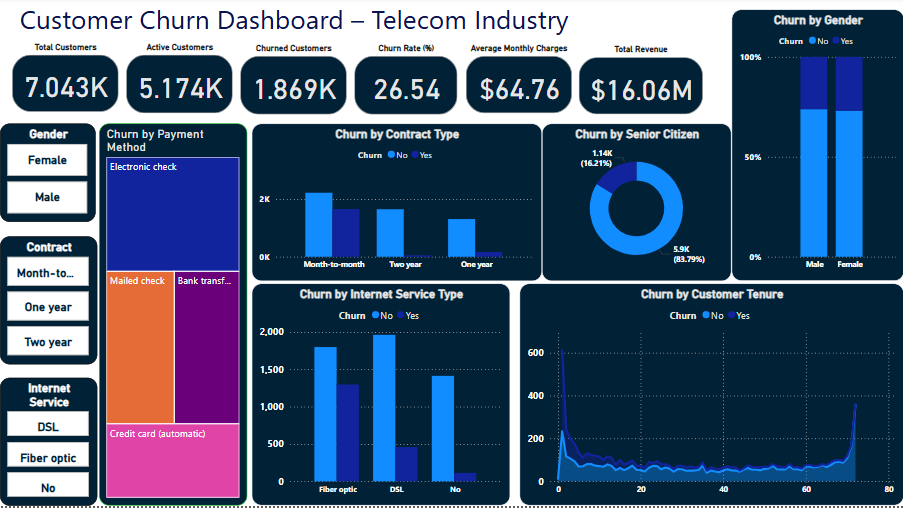

What the dashboard file says about the page in this screenshot:
{"tool":"powerbi","page":{"name":"Page 1","canvas":[1280,720],"ordinal":0},"visuals":[{"type":"cardVisual","title":"Total Customers","fields":{"Data":["CountNonNull(churn.customerID)"]},"box":[12.3,63.2,161.6,105.4],"z":0},{"type":"cardVisual","title":"Active Customers","fields":{"Data":["CountNonNull(churn.Churn)"]},"box":[173.9,63.2,161.6,107.1],"z":1000},{"type":"cardVisual","title":"Average Monthly Charges","fields":{"Data":["Avg(churn.MonthlyCharges)"]},"box":[654.3,65.8,160.5,104.9],"z":2000},{"type":"cardVisual","title":"Churned Customers","fields":{"Data":["CountNonNull(churn.Churn)"]},"box":[335.5,65,161.6,107.1],"z":3000},{"type":"cardVisual","title":"Total Revenue","fields":{"Data":["Sum(churn.TotalCharges)"]},"box":[815,66.7,186.2,105.4],"z":4000},{"type":"donutChart","title":"Churn by Senior Citizen","fields":{"Category":["churn.SeniorCitizen"],"Y":["CountNonNull(churn.Churn)"]},"box":[767.6,179.2,268.7,223.1],"z":5000},{"type":"clusteredColumnChart","title":"Churn by Contract Type","fields":{"Category":["churn.Contract"],"Y":["CountNonNull(churn.customerID)"],"Series":["churn.Churn"]},"box":[356.6,179.2,411,223.1],"z":6000},{"type":"cardVisual","title":"Churn Rate (%)","fields":{"Data":["Sum(Table.[Churn Rate (%)])"]},"box":[497.9,65.8,156.4,107],"z":7000},{"type":"hundredPercentStackedColumnChart","title":"Churn by Gender","fields":{"Category":["churn.gender"],"Y":["CountNonNull(churn.customerID)"],"Series":["churn.Churn"]},"box":[1036.3,17.6,244.1,384.7],"z":8000},{"type":"stackedAreaChart","title":"Churn by Customer Tenure","fields":{"Category":["churn.tenure"],"Y":["CountNonNull(churn.customerID)"],"Series":["churn.Churn"]},"box":[735.9,405.7,544.5,314.4],"z":9000},{"type":"treemap","title":"Churn by Payment Method","fields":{"Group":["churn.PaymentMethod"],"Values":["CountNonNull(churn.Churn)"]},"box":[139.9,179,209.9,541.1],"z":10000},{"type":"clusteredColumnChart","title":"Churn by Internet Service Type","fields":{"Category":["churn.InternetService"],"Y":["CountNonNull(churn.customerID)"],"Series":["churn.Churn"]},"box":[356,405.3,366.3,314.8],"z":11000},{"type":"advancedSlicerVisual","title":"Gender","fields":{"Values":["churn.gender"]},"box":[1.8,179.2,135.2,140.5],"z":12000},{"type":"advancedSlicerVisual","fields":{"Values":["churn.Contract"]},"box":[0,339.5,137.9,181.1],"z":13000},{"type":"textbox","box":[0,0,833.3,72],"z":14000},{"type":"advancedSlicerVisual","title":"Internet Service","fields":{"Values":["churn.InternetService"]},"box":[0,539.1,137.9,181.1],"z":14001}]}

Visuals, with their boxes in screenshot pixels (x1, y1, x2, y2), scaled from the page's 1280x720 canvas onto the 903x508 screenshot:
"Total Customers" cardVisual: bbox=[9, 45, 123, 119]
"Active Customers" cardVisual: bbox=[123, 45, 237, 120]
"Average Monthly Charges" cardVisual: bbox=[462, 46, 575, 120]
"Churned Customers" cardVisual: bbox=[237, 46, 351, 121]
"Total Revenue" cardVisual: bbox=[575, 47, 706, 121]
"Churn by Senior Citizen" donutChart: bbox=[542, 126, 731, 284]
"Churn by Contract Type" clusteredColumnChart: bbox=[252, 126, 542, 284]
"Churn Rate (%)" cardVisual: bbox=[351, 46, 462, 122]
"Churn by Gender" hundredPercentStackedColumnChart: bbox=[731, 12, 902, 284]
"Churn by Customer Tenure" stackedAreaChart: bbox=[519, 286, 902, 507]
"Churn by Payment Method" treemap: bbox=[99, 126, 247, 507]
"Churn by Internet Service Type" clusteredColumnChart: bbox=[251, 286, 510, 507]
"Gender" advancedSlicerVisual: bbox=[1, 126, 97, 226]
advancedSlicerVisual - churn.Contract: bbox=[0, 240, 97, 367]
textbox: bbox=[0, 0, 588, 51]
"Internet Service" advancedSlicerVisual: bbox=[0, 380, 97, 507]
